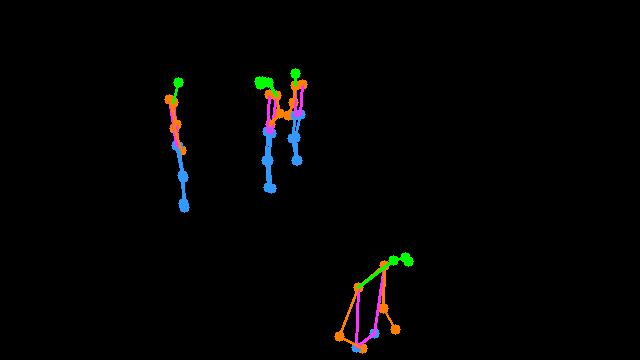normal: (230, 54, 331, 210), (142, 43, 213, 234)
